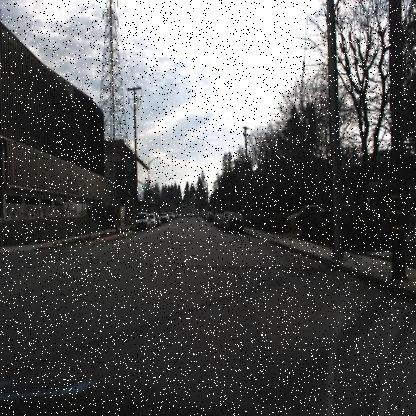car: (284, 202, 326, 230), (225, 211, 245, 235), (134, 212, 149, 232)
